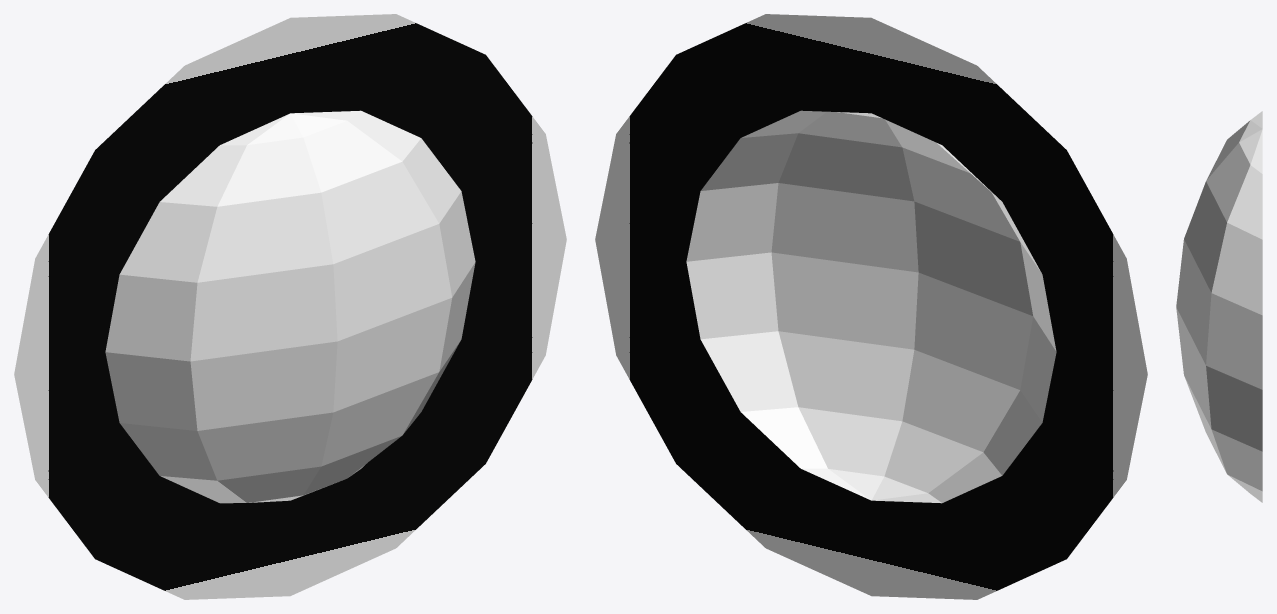
Rendered from cursor_active.fbx.
3 renders of one model, left to right at view 1: azimuth 30°, elevation 25°; view 2: azimuth 150°, elevation 25°; view 3: azimuth 270°, elevation 25°, orthographic. The views are drawn at different scales.
Visible parts, largest first — view 1: ring_observation_geo; view 2: ring_observation_geo; view 3: ring_observation_geo.
Part boxes in pixels (left/top/right/bottom): ring_observation_geo: left=14, top=14, right=566, bottom=599; ring_observation_geo: left=595, top=14, right=1147, bottom=599; ring_observation_geo: left=1176, top=111, right=1262, bottom=502.
Bounding box in the file's own units: 1.02 × 1.02 × 0.1499.
1 material, 1 textured.
